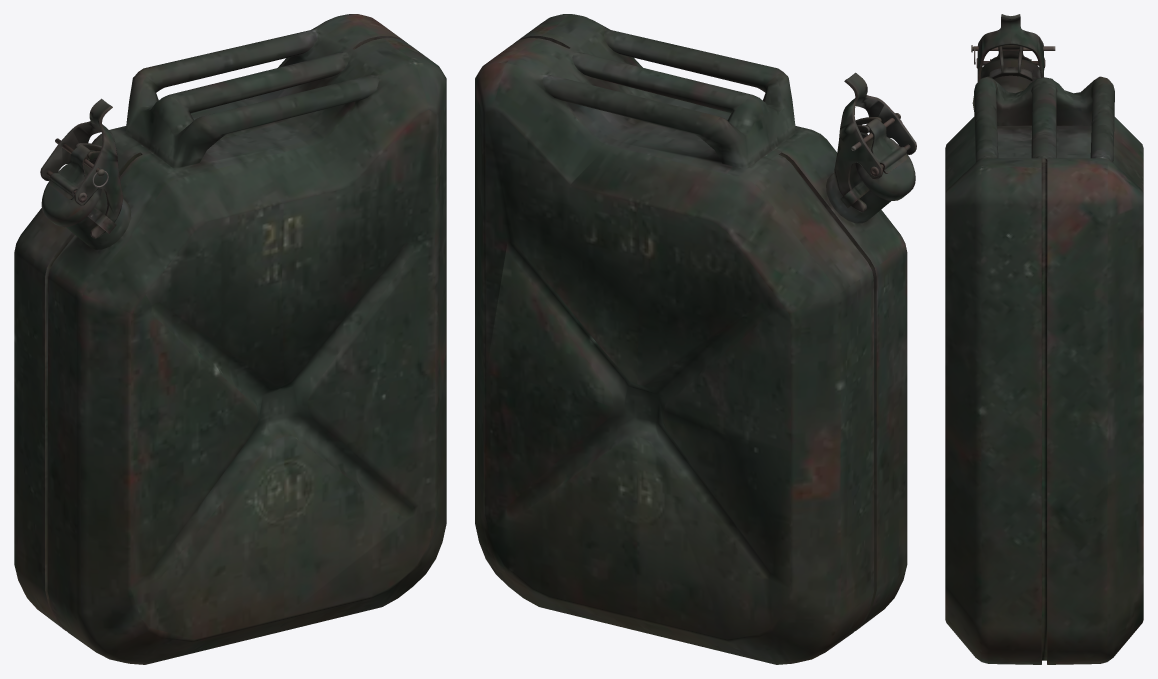
The model's file is metal_jerrycan_green.glb.
3 renders of one model, left to right at view 1: azimuth 30°, elevation 25°; view 2: azimuth 150°, elevation 25°; view 3: azimuth 270°, elevation 25°, orthographic. The views are drawn at different scales.
Parts seen in each view (by area): view 1: metal_jerrycan_green_body, metal_jerrycan_green_latch, metal_jerrycan_green_cap; view 2: metal_jerrycan_green_body, metal_jerrycan_green_latch, metal_jerrycan_green_cap; view 3: metal_jerrycan_green_body, metal_jerrycan_green_latch, metal_jerrycan_green_cap, metal_jerrycan_green_fastener.
Boxes of the visible parts, <box> form: metal_jerrycan_green_body: <box>14,14,446,664</box>; metal_jerrycan_green_latch: <box>40,98,122,238</box>; metal_jerrycan_green_cap: <box>41,144,101,227</box>; metal_jerrycan_green_body: <box>475,14,907,664</box>; metal_jerrycan_green_latch: <box>834,72,916,212</box>; metal_jerrycan_green_cap: <box>855,118,915,200</box>; metal_jerrycan_green_body: <box>945,75,1143,664</box>; metal_jerrycan_green_latch: <box>976,14,1045,81</box>; metal_jerrycan_green_cap: <box>980,45,1040,79</box>; metal_jerrycan_green_fastener: <box>989,46,1032,81</box>.
Bounding box in the file's own units: 0.3604 × 0.4999 × 0.1709.
Materials: 1 (1 with a texture image).
